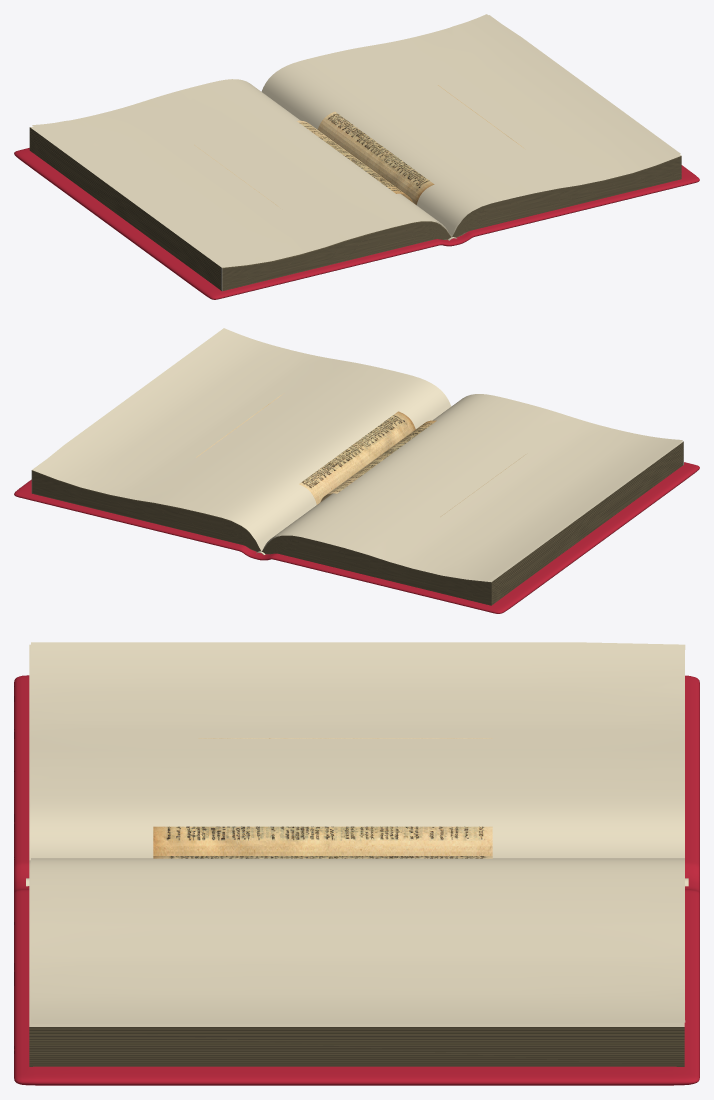
File: geft.glb
3 renders of one model, top to bottom at view 1: azimuth 30°, elevation 25°; view 2: azimuth 150°, elevation 25°; view 3: azimuth 270°, elevation 25°, orthographic. The views are drawn at different scales.
Parts seen in each view (by area): view 1: page_top_right_2, page_top_left_2, Book_Cover_base, lower_left, lower_right, Side_left, Object002, Object001; view 2: page_top_right_2, page_top_left_2, Book_Cover_base, lower_left, lower_right, Side_left, Object002, Object001; view 3: page_top_left_2, page_top_right_2, side_right, Book_Cover_base, Object001, lower_right, Object002.
Boxes of the visible parts, x1,y1,x2,y2 form: page_top_right_2: (261, 14, 680, 234); page_top_left_2: (32, 79, 448, 265); Book_Cover_base: (14, 148, 699, 299); lower_left: (30, 126, 451, 291); lower_right: (449, 15, 681, 237); Side_left: (29, 127, 221, 290); Object002: (317, 85, 523, 204); Object001: (194, 120, 412, 206); page_top_right_2: (34, 328, 451, 551); page_top_left_2: (262, 394, 682, 580); Book_Cover_base: (14, 462, 699, 613); lower_left: (262, 441, 683, 605); lower_right: (31, 461, 261, 551); Side_left: (491, 441, 683, 605); Object002: (196, 394, 415, 504); Object001: (320, 420, 525, 516); page_top_left_2: (31, 642, 685, 858); page_top_right_2: (31, 858, 685, 1023); side_right: (29, 1027, 684, 1066); Book_Cover_base: (14, 675, 699, 1085); Object001: (153, 738, 492, 855); lower_right: (29, 860, 684, 1026); Object002: (153, 856, 492, 858).
Bounding box in the file's own units: 1.01 × 0.0659 × 0.7191.
7 materials, 5 textured.
